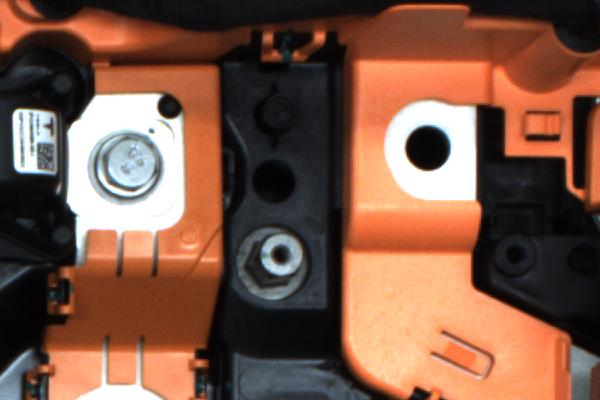nut_b: (85, 127, 183, 220)
